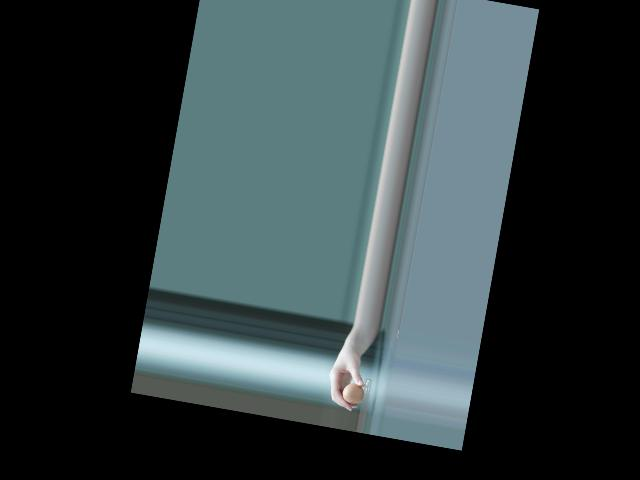egg: (340, 381, 366, 406)
